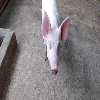heo: (40, 9, 71, 77)
